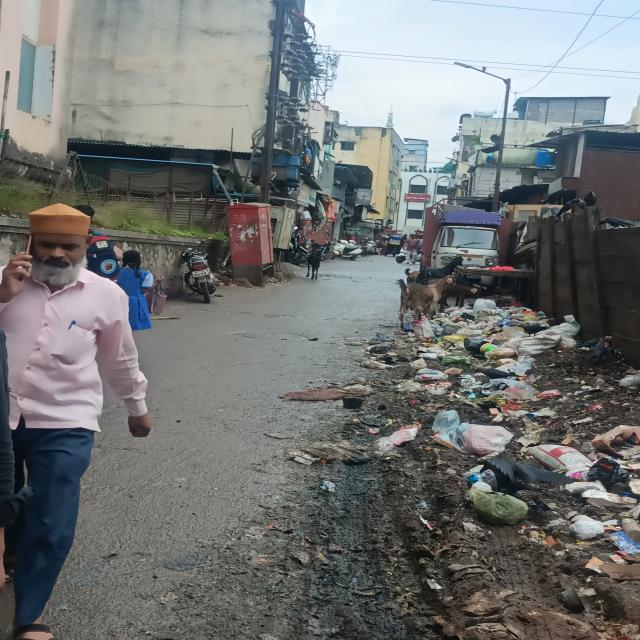garbage: (385, 301, 640, 584)
